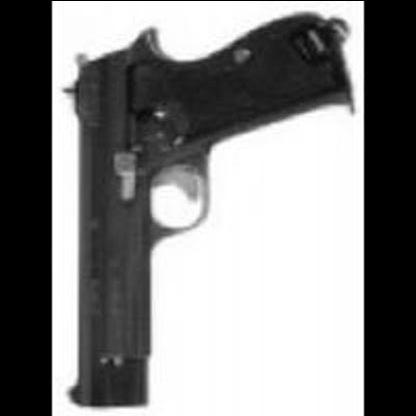weapon: (61, 13, 357, 409)
